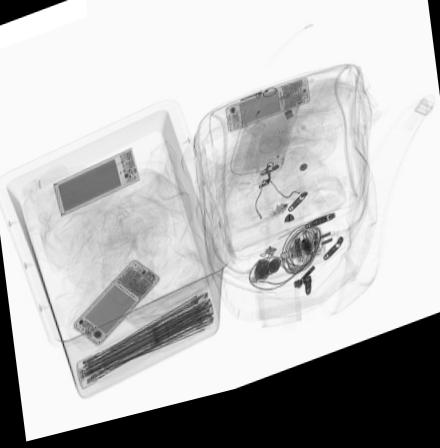Powerbank: (51, 153, 141, 219)
